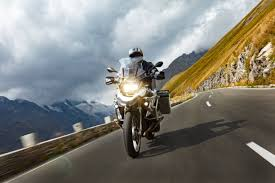motorcycle: (100, 61, 171, 161)
